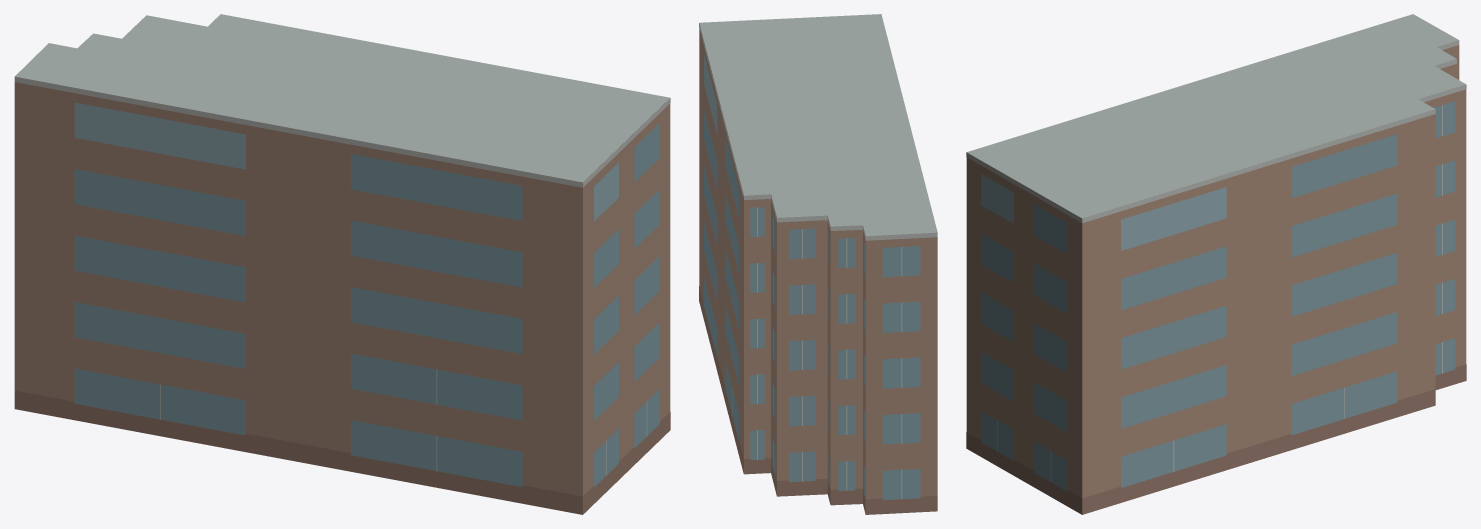
File: survey-upis-32585300.glb
3 views of the same model, side by side, from view 1: azimuth 30°, elevation 25°; view 2: azimuth 150°, elevation 25°; view 3: azimuth 270°, elevation 25° (orthographic). The views are drawn at different scales.
Visible parts, largest first — view 1: survey-upis-32585300.tmp; view 2: survey-upis-32585300.tmp; view 3: survey-upis-32585300.tmp.
Part boxes in pixels (x1,y1,x2,y2): survey-upis-32585300.tmp: (14, 14, 670, 514); survey-upis-32585300.tmp: (699, 14, 937, 514); survey-upis-32585300.tmp: (966, 14, 1466, 514).
Bounding box in the file's own units: 22.43 × 15.15 × 23.17.
